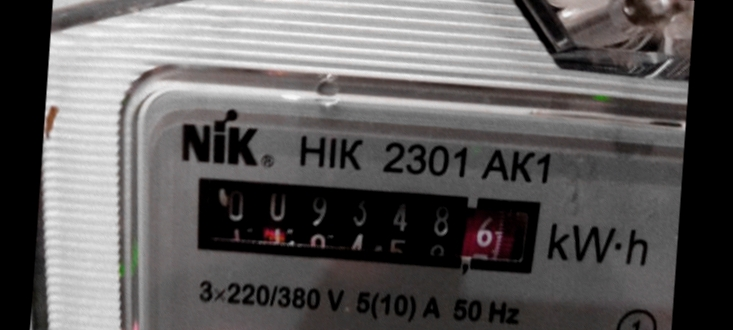0: (265, 188, 288, 225), (224, 187, 246, 223)
3: (347, 194, 371, 228)
4: (386, 197, 410, 236)
6: (473, 213, 497, 249)
8: (429, 202, 452, 237)
9: (308, 192, 328, 227)
screen: (169, 161, 560, 290)
